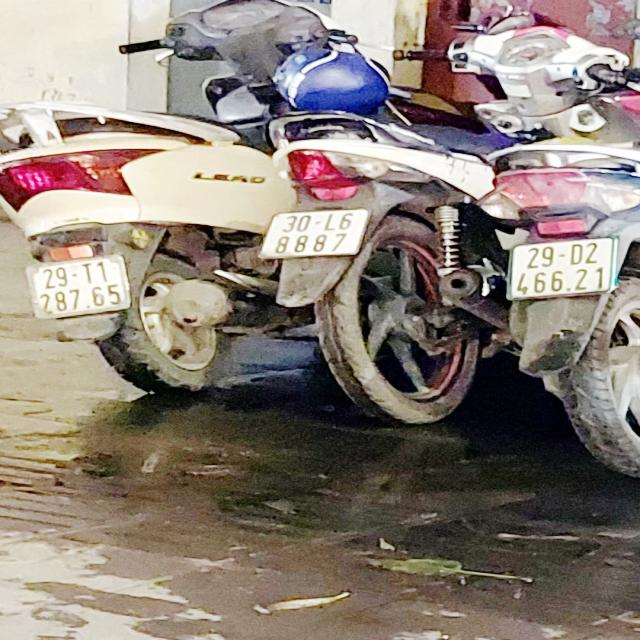license_plate: (19, 249, 139, 325), (505, 232, 625, 305), (251, 204, 380, 263)
